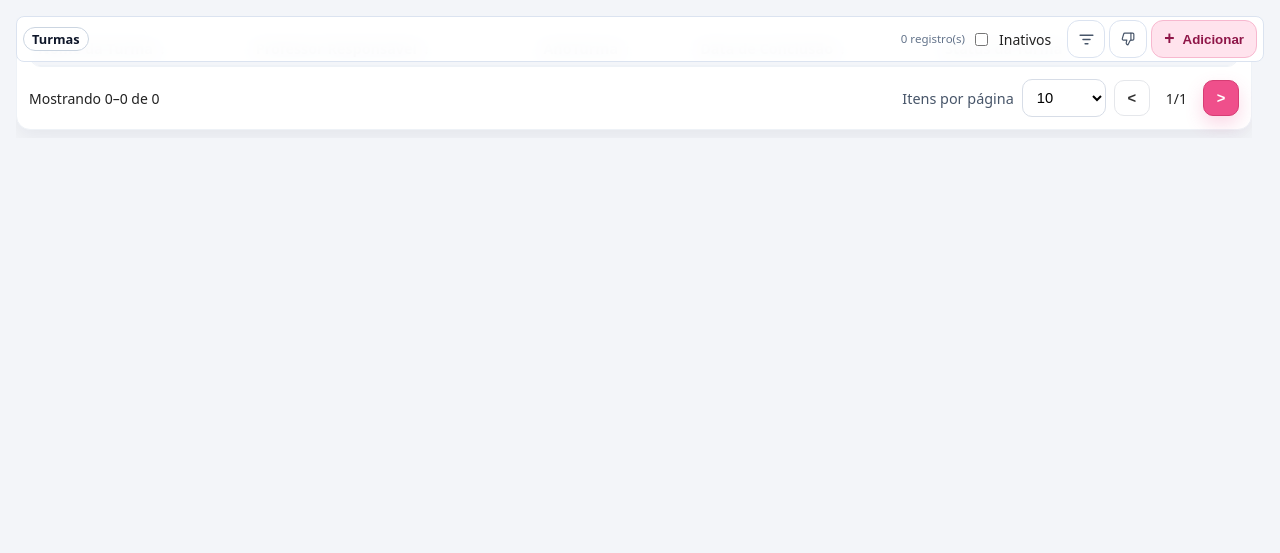
Test: Contrato de filtros da UI › turmas expõem os criterios de filtro esperados
The width and height of the screenshot is (1280, 553).
Click the button named "Abrir filtros".
click(1086, 39)  # box x1=1067 y1=20 x2=1105 y2=58
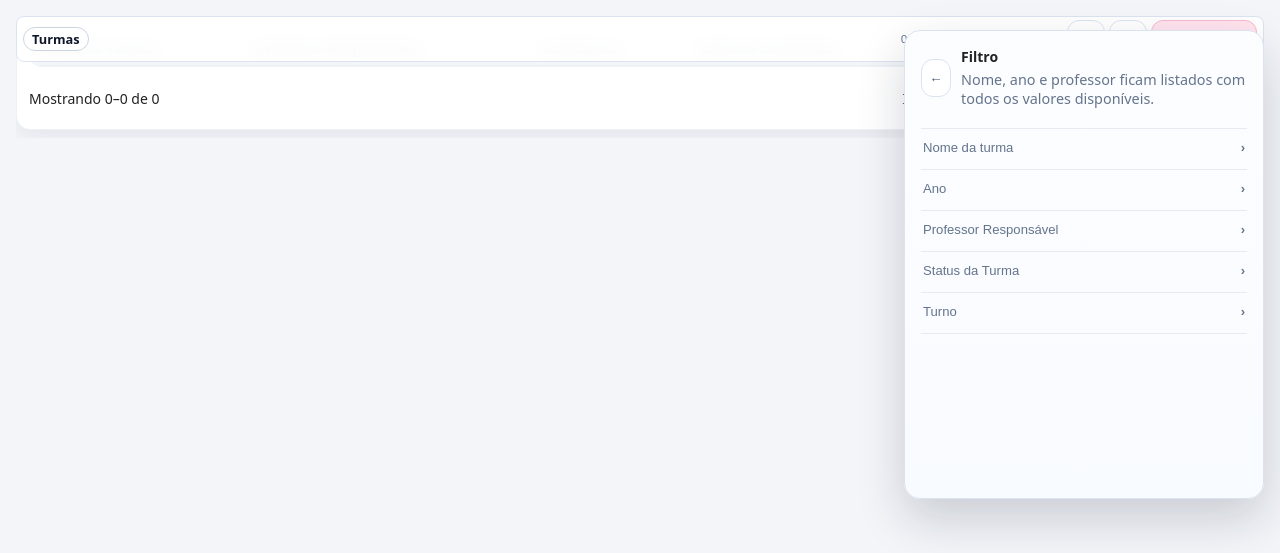
Result: the button "Nome da turma ›" is shown at x1=921 y1=129 x2=1247 y2=170
Result: the button "Ano ›" is shown at x1=921 y1=170 x2=1247 y2=211
Result: the button "Professor Responsável ›" is shown at x1=921 y1=211 x2=1247 y2=252
